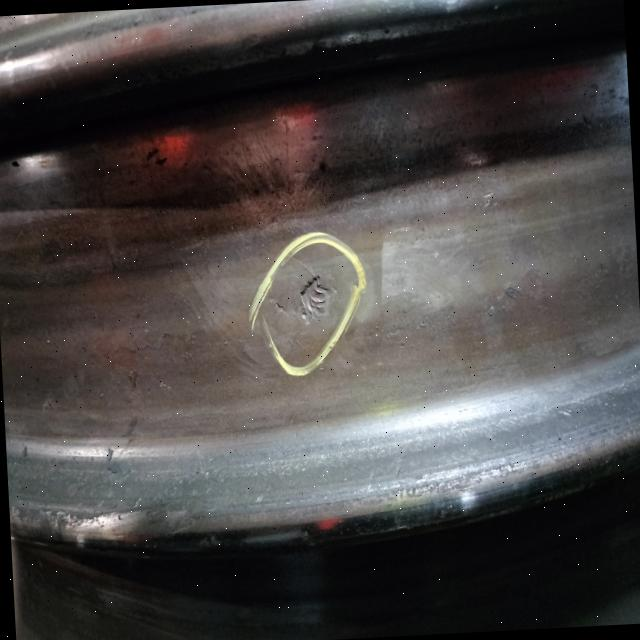Blue hole: (274, 272, 340, 343)
flat: (375, 229, 512, 317)
